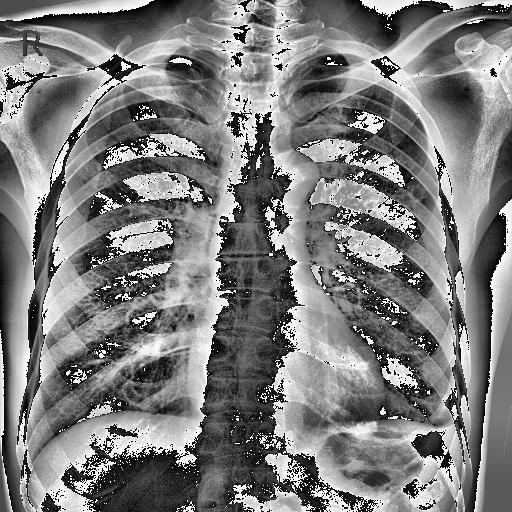10- Pleural effusion: (424, 400, 462, 446), (432, 398, 464, 451), (430, 414, 462, 447)
11- Pleural thickening: (424, 400, 462, 446), (432, 398, 464, 451), (430, 414, 462, 447)
